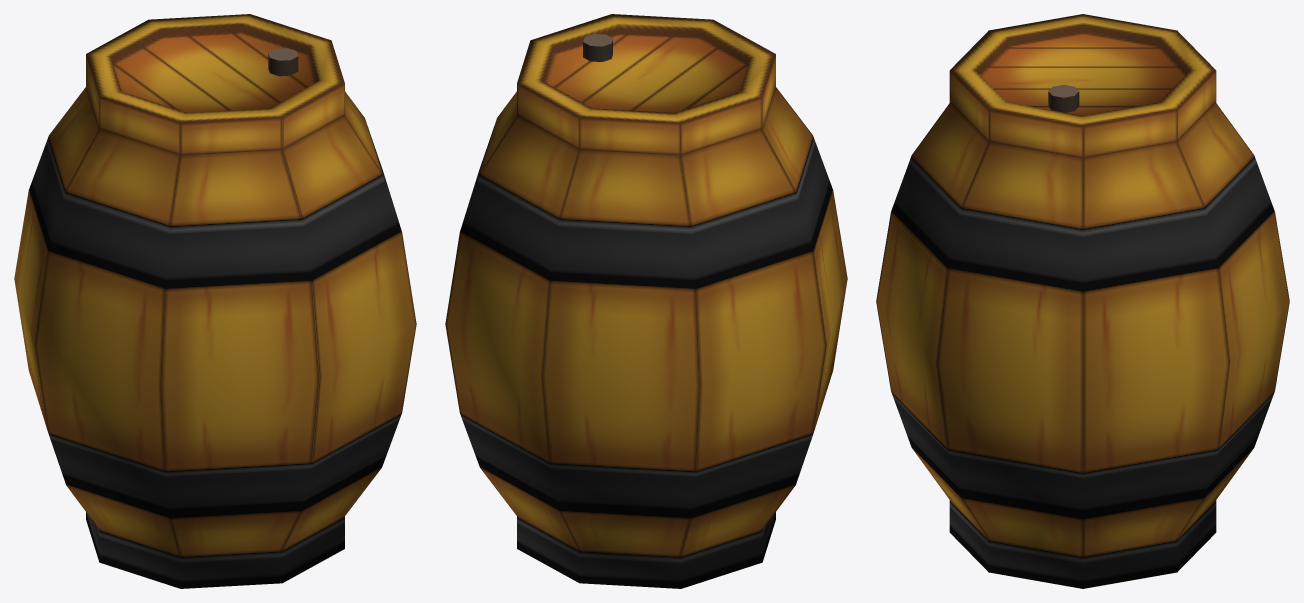
Rendered from drum.FBX.
3 views of the same model, side by side, from view 1: azimuth 30°, elevation 25°; view 2: azimuth 150°, elevation 25°; view 3: azimuth 270°, elevation 25° (orthographic).
Parts seen in each view (by area): view 1: NGon002; view 2: NGon002; view 3: NGon002.
Part boxes in pixels (x1,y1,x2,y2): NGon002: (14, 14, 416, 588); NGon002: (445, 14, 847, 588); NGon002: (876, 14, 1289, 588).
Bounding box in the file's own units: 90.86 × 114 × 90.86.
